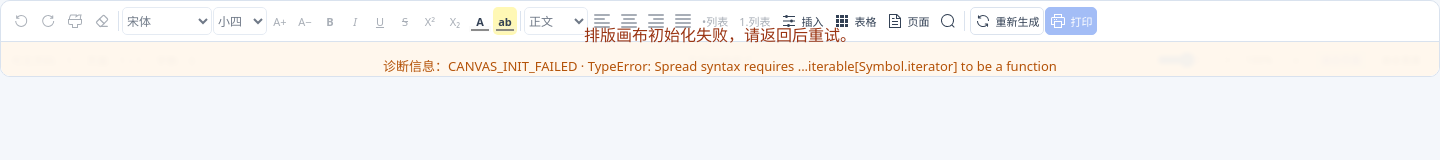
Test: PaperCanvasEditor › shows the search input only after clicking the search icon
Step 1. Click the button named "查找" → [948, 21], box left=935, top=7, right=961, bottom=35
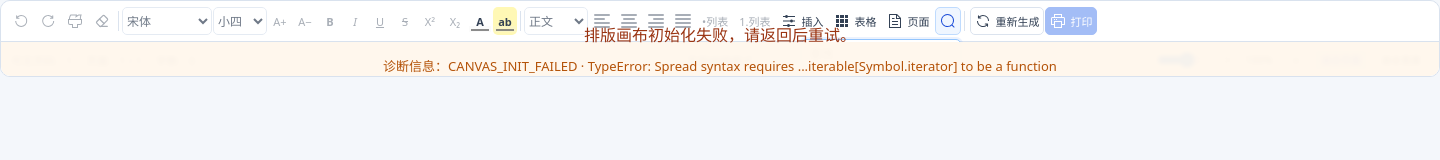
expect the search field named "查找内容" is shown: met, box left=801, top=39, right=961, bottom=67
